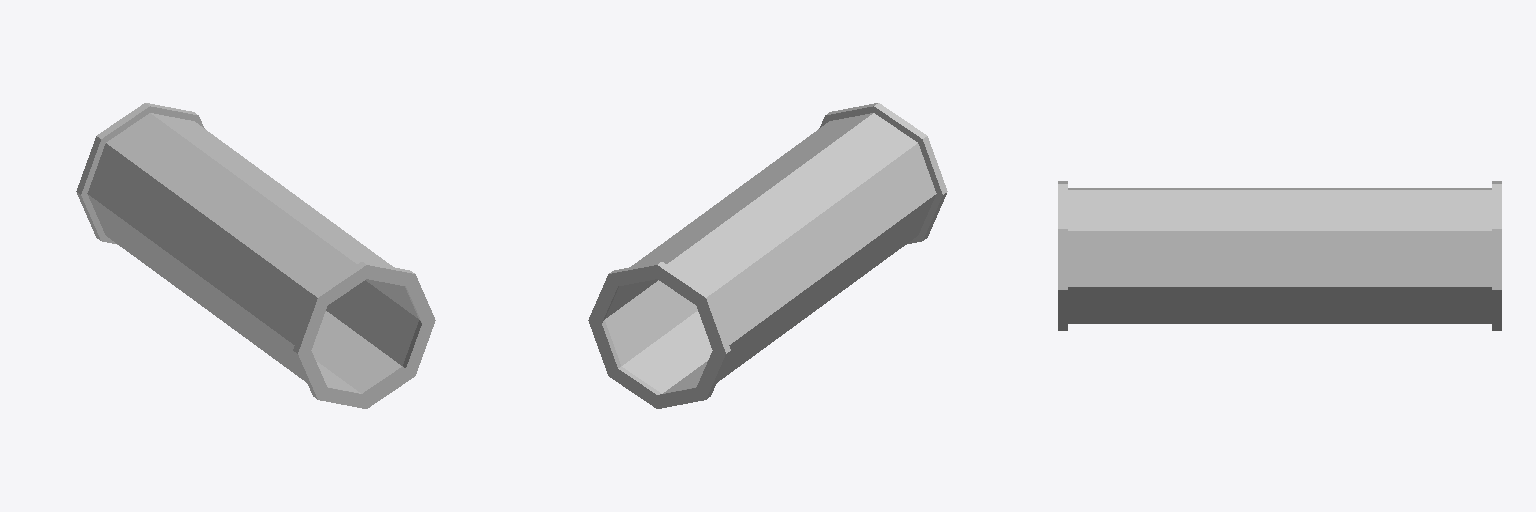
Rendered from tuberStraight1.obj.
The picture shows the model from 3 angles: view 1: azimuth 30°, elevation 25°; view 2: azimuth 150°, elevation 25°; view 3: azimuth 270°, elevation 25°; orthographic projection.
Visible parts, largest first — view 1: tubeU.003_BezierCurve.005; view 2: tubeU.003_BezierCurve.005; view 3: tubeU.003_BezierCurve.005.
Part boxes in pixels (x1,y1,x2,y2): tubeU.003_BezierCurve.005: (76,103,435,408); tubeU.003_BezierCurve.005: (588,103,947,408); tubeU.003_BezierCurve.005: (1058,181,1501,330).
Size of the model in its own units: 0.7062 by 0.7062 by 1.96.